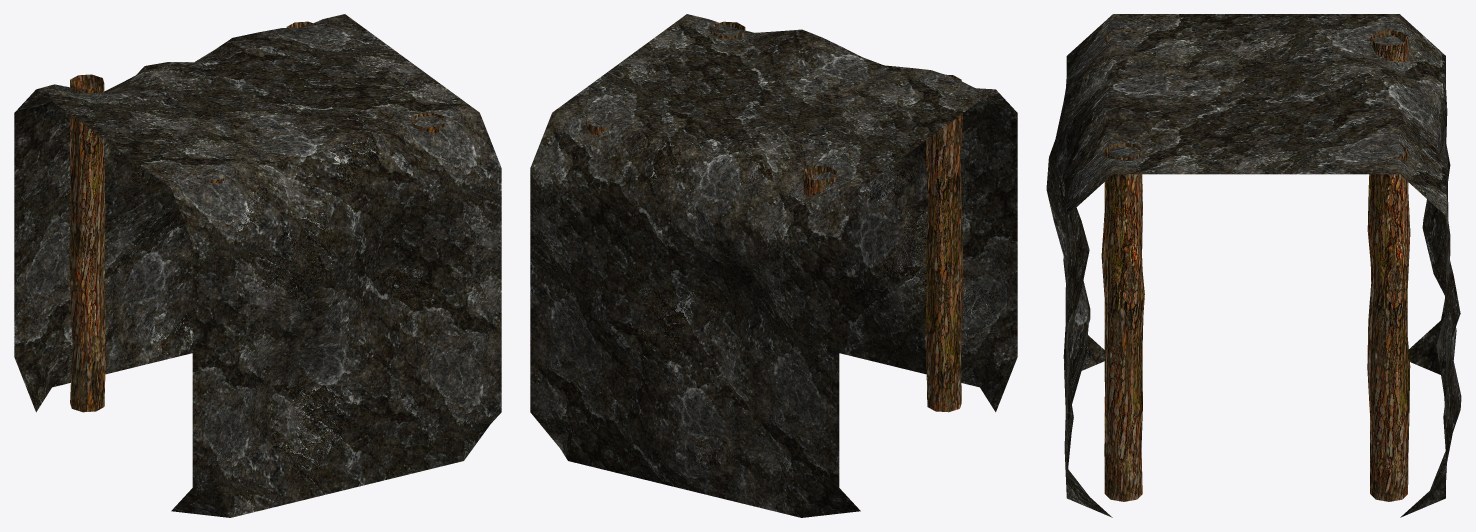
Rendered from Cave_021.fbx.
3 renders of one model, left to right at view 1: azimuth 30°, elevation 25°; view 2: azimuth 150°, elevation 25°; view 3: azimuth 270°, elevation 25°, orthographic. The views are drawn at different scales.
Visible parts, largest first — view 1: Cave.021; view 2: Cave.021; view 3: Cave.021.
Part boxes in pixels (x1,y1,x2,y2): Cave.021: [14, 14, 501, 517]; Cave.021: [530, 14, 1017, 517]; Cave.021: [1046, 14, 1461, 517].
Size of the model in its own units: 300 by 308 by 328.
